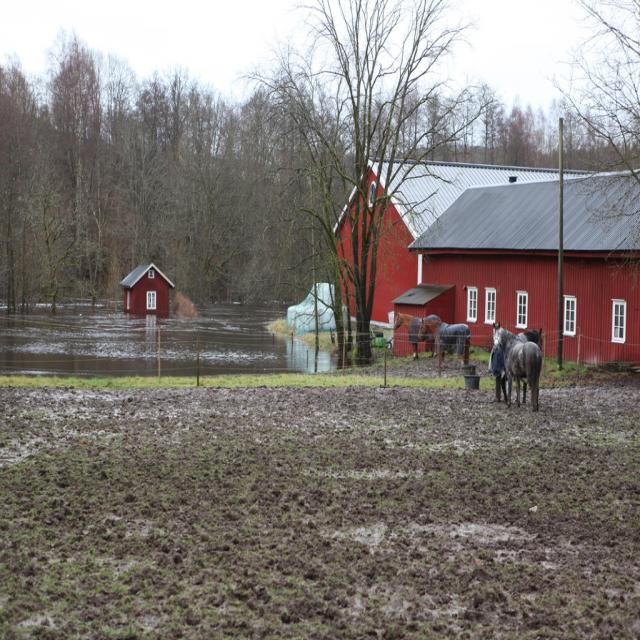Horse: (394, 311, 543, 412)
